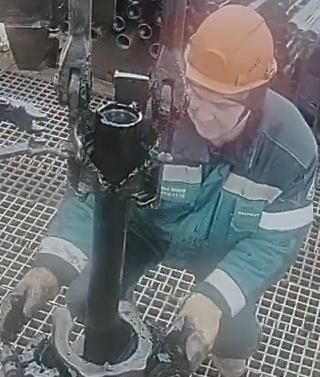gloves: (160, 291, 226, 372), (0, 260, 60, 340)
helmet: (183, 3, 277, 94)
vest: (146, 128, 319, 265)
